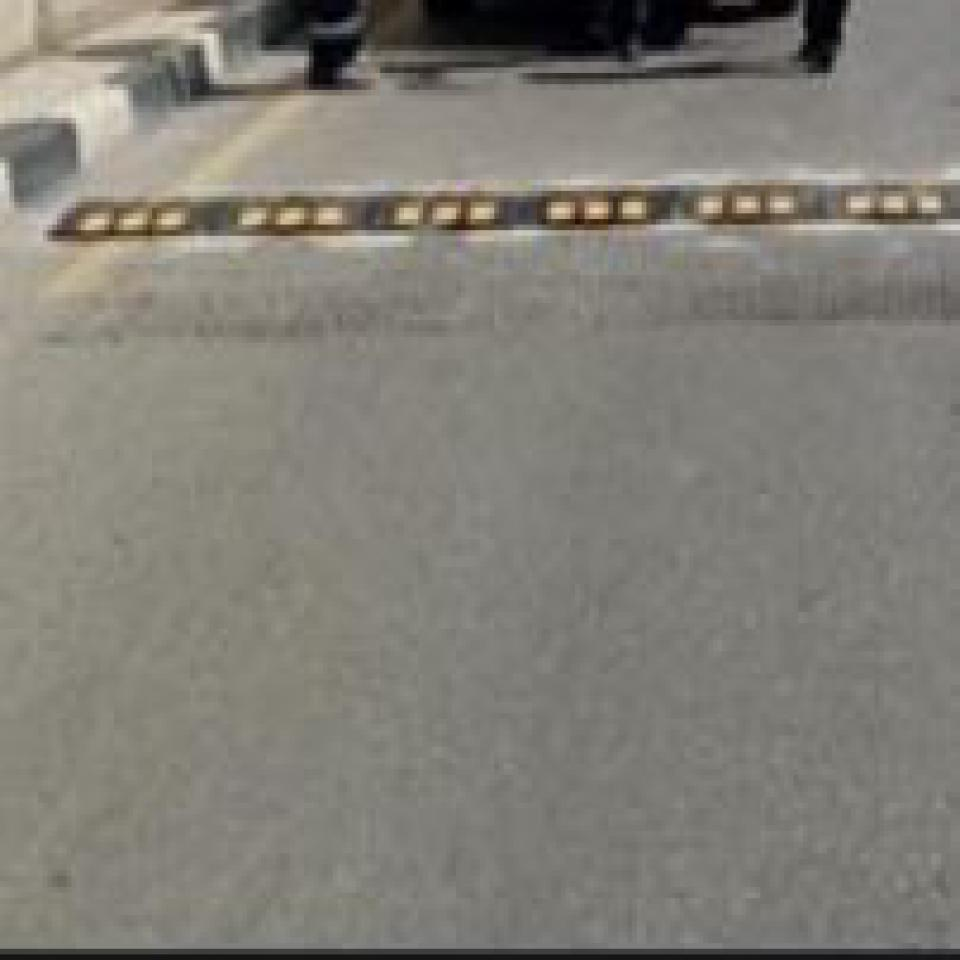speedbreaker: (61, 158, 956, 242)
